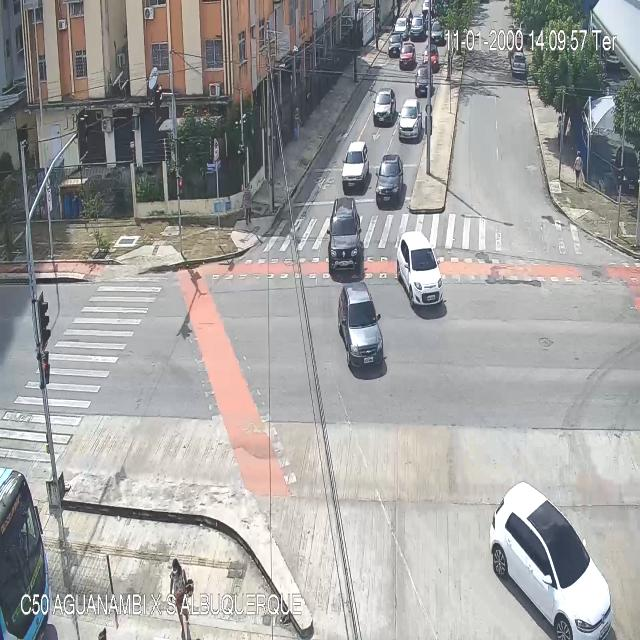Bus: (0, 468, 50, 637)
Car: (489, 480, 616, 639), (339, 284, 386, 368), (397, 230, 445, 310), (328, 197, 364, 274), (376, 154, 403, 207), (343, 140, 370, 192), (399, 98, 423, 140), (375, 90, 395, 126), (415, 66, 432, 96), (399, 43, 415, 71), (423, 48, 440, 74), (389, 34, 402, 58), (410, 18, 424, 40), (431, 23, 444, 46), (511, 55, 525, 75), (392, 18, 407, 36)
